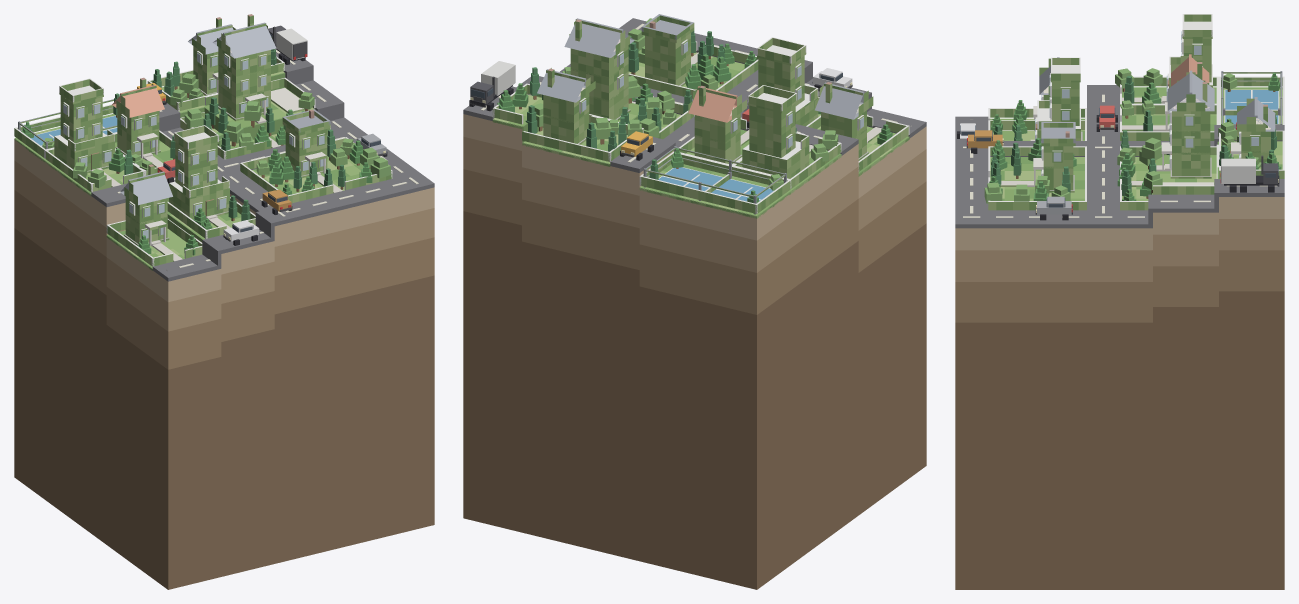
File: block_5_greenfacade_0.glb
The picture shows the model from 3 angles, left to right: view 1: azimuth 30°, elevation 25°; view 2: azimuth 150°, elevation 25°; view 3: azimuth 270°, elevation 25°; orthographic projection. The views are drawn at different scales.
Visible parts, largest first — view 1: Patch_UpperLeft_b07_GF, Bungalows_UpperLeft_b07_GF, Roads_UpperLeft_b07_GF, ULCar_019_GF, LawnSkirt_UpperLeft_b07_GF, RoadMarks_UpperLeft_b07_GF, ULCar_004_GF, ULCar_018_GF; view 2: Patch_UpperLeft_b07_GF, Bungalows_UpperLeft_b07_GF, Roads_UpperLeft_b07_GF, ULCar_019_GF, ULCar_017_GF; view 3: Patch_UpperLeft_b07_GF, Bungalows_UpperLeft_b07_GF, Roads_UpperLeft_b07_GF, ULCar_019_GF, RoadMarks_UpperLeft_b07_GF, ULCar_020_GF, ULCar_018_GF, ULCar_008_GF.
Boxes of the visible parts, box(x1,y1,x2,y2) form: Patch_UpperLeft_b07_GF: box(14, 140, 434, 589); Bungalows_UpperLeft_b07_GF: box(14, 14, 392, 270); Roads_UpperLeft_b07_GF: box(91, 52, 434, 281); ULCar_019_GF: box(268, 25, 307, 64); LawnSkirt_UpperLeft_b07_GF: box(16, 72, 285, 267); RoadMarks_UpperLeft_b07_GF: box(117, 49, 418, 270); ULCar_004_GF: box(223, 220, 259, 245); ULCar_018_GF: box(261, 189, 292, 214); Patch_UpperLeft_b07_GF: box(463, 114, 926, 589); Bungalows_UpperLeft_b07_GF: box(492, 14, 909, 218); Roads_UpperLeft_b07_GF: box(463, 18, 926, 172); ULCar_019_GF: box(469, 61, 515, 111); ULCar_017_GF: box(620, 131, 653, 160); Patch_UpperLeft_b07_GF: box(955, 197, 1284, 589); Bungalows_UpperLeft_b07_GF: box(988, 14, 1284, 210); Roads_UpperLeft_b07_GF: box(955, 85, 1284, 228); ULCar_019_GF: box(1220, 155, 1279, 192); RoadMarks_UpperLeft_b07_GF: box(963, 94, 1276, 217); ULCar_020_GF: box(1035, 196, 1072, 220); ULCar_018_GF: box(966, 130, 1003, 153); ULCar_008_GF: box(1096, 105, 1117, 131).
Bounding box in the file's own units: 9.61 × 15.01 × 9.5.
